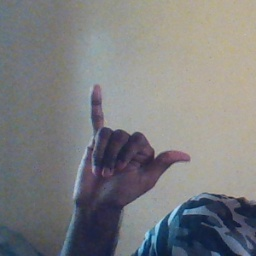J: (70, 83, 193, 206)
